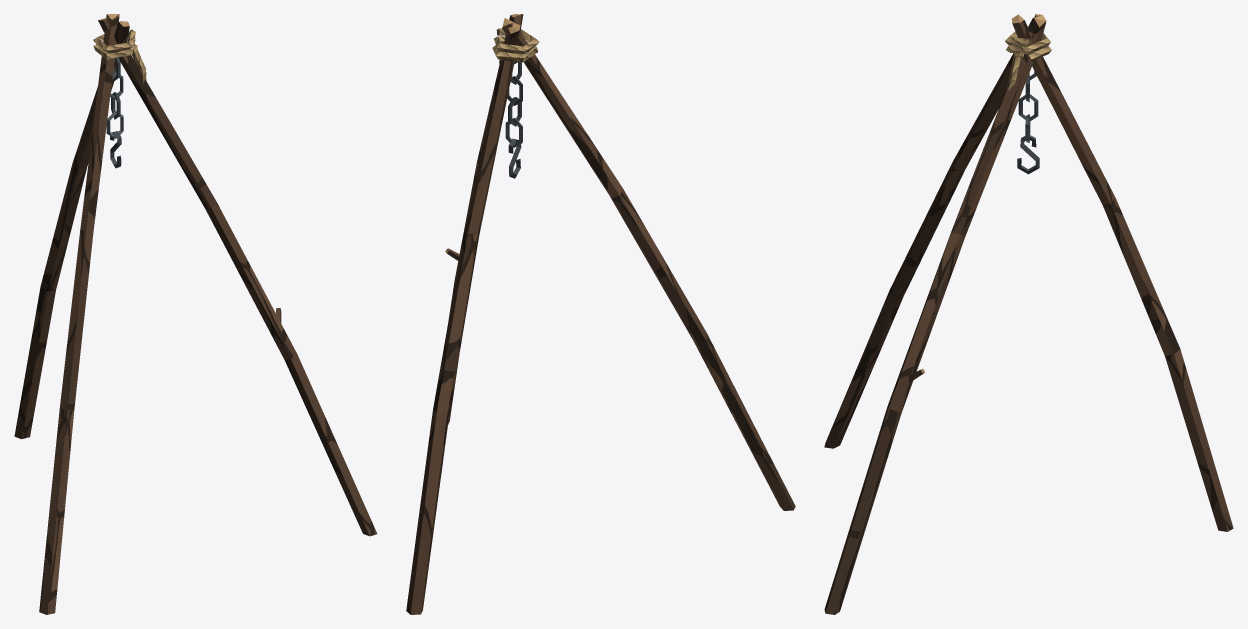
Rendered from SM_CookingTripod.fbx.
The picture shows the model from 3 angles, left to right: view 1: azimuth 30°, elevation 25°; view 2: azimuth 150°, elevation 25°; view 3: azimuth 270°, elevation 25°; orthographic projection. The views are drawn at different scales.
Visible parts, largest first — view 1: SM_CookingTripod; view 2: SM_CookingTripod; view 3: SM_CookingTripod.
Part boxes in pixels (box(x1,y1,x2,y2)): SM_CookingTripod: box(14, 14, 377, 614); SM_CookingTripod: box(406, 14, 795, 614); SM_CookingTripod: box(824, 14, 1233, 614).
Size of the model in its own units: 1.3 by 1.8 by 1.3.
